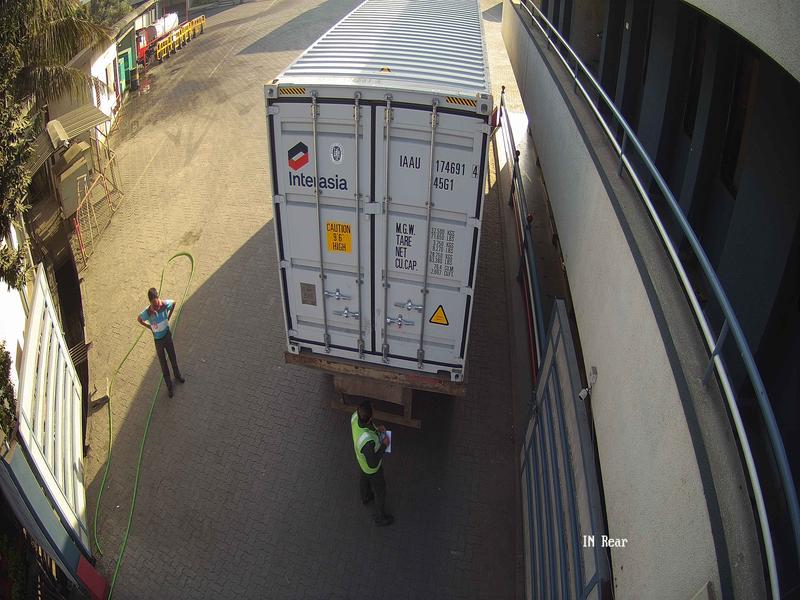container: (256, 68, 516, 391)
